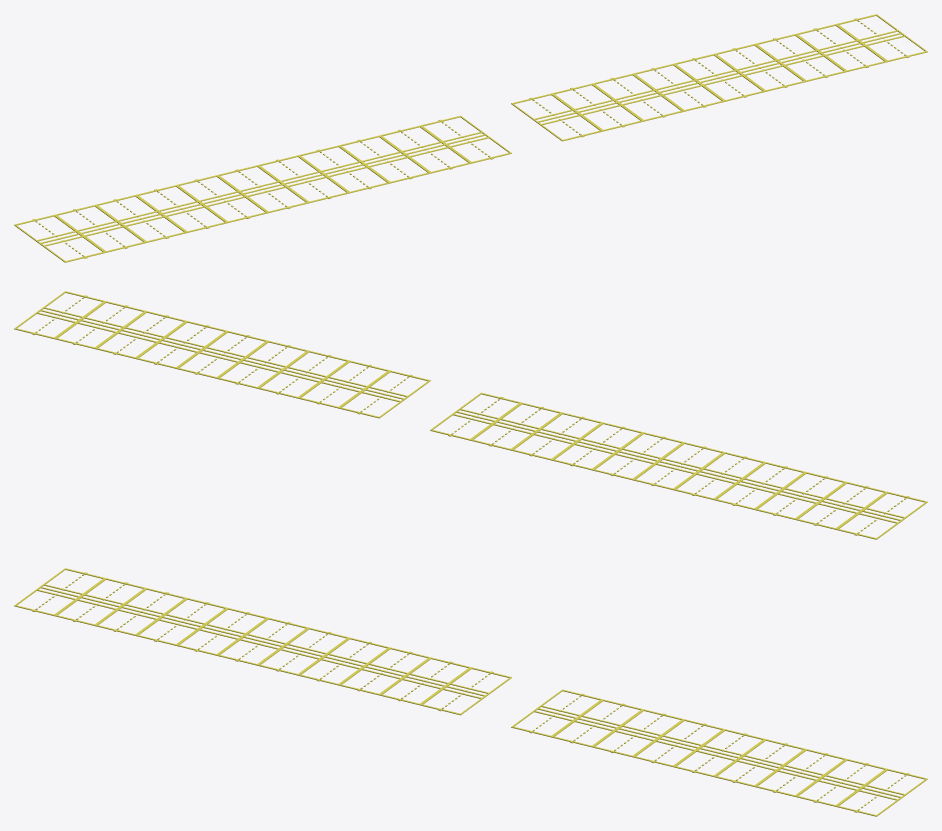
File: CYGroundLines.fbx
3 renders of one model, top to bottom at view 1: azimuth 30°, elevation 25°; view 2: azimuth 150°, elevation 25°; view 3: azimuth 330°, elevation 25°, orthographic.
Parts seen in each view (by area): view 1: Cube.002; view 2: Cube.002; view 3: Cube.002.
Boxes of the visible parts, left/top/right/bottom form: Cube.002: left=14, top=14, right=927, bottom=262; Cube.002: left=14, top=291, right=927, bottom=539; Cube.002: left=14, top=568, right=927, bottom=816.
Bounding box in the file's own units: 173 × 0.1423 × 18.32.
